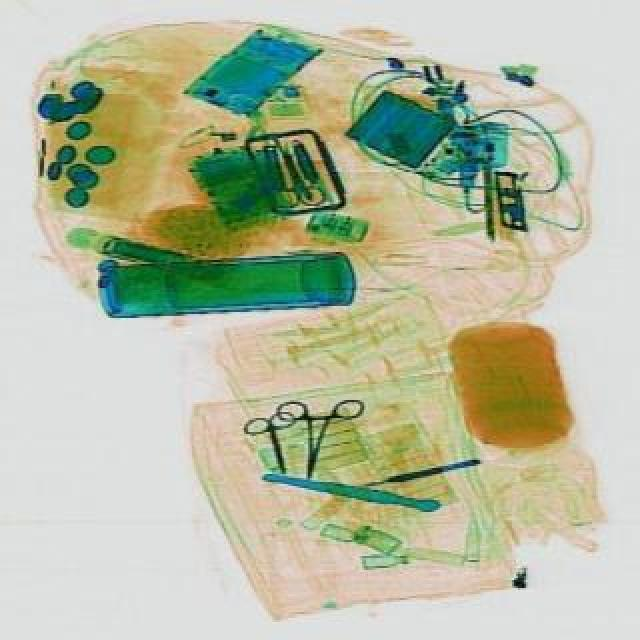pliers: (264, 392, 362, 492), (240, 410, 310, 488), (258, 152, 324, 218)
